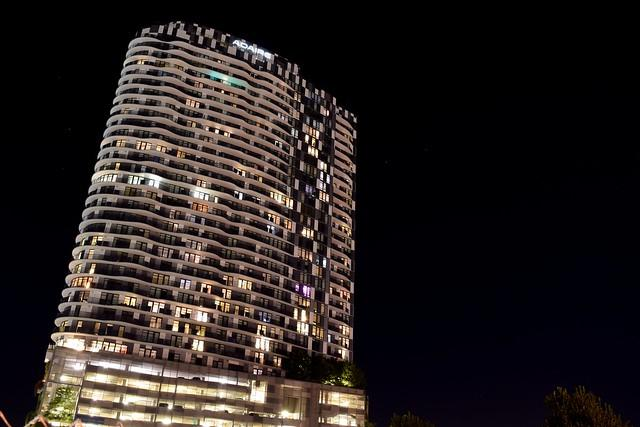building: (14, 16, 370, 427)
